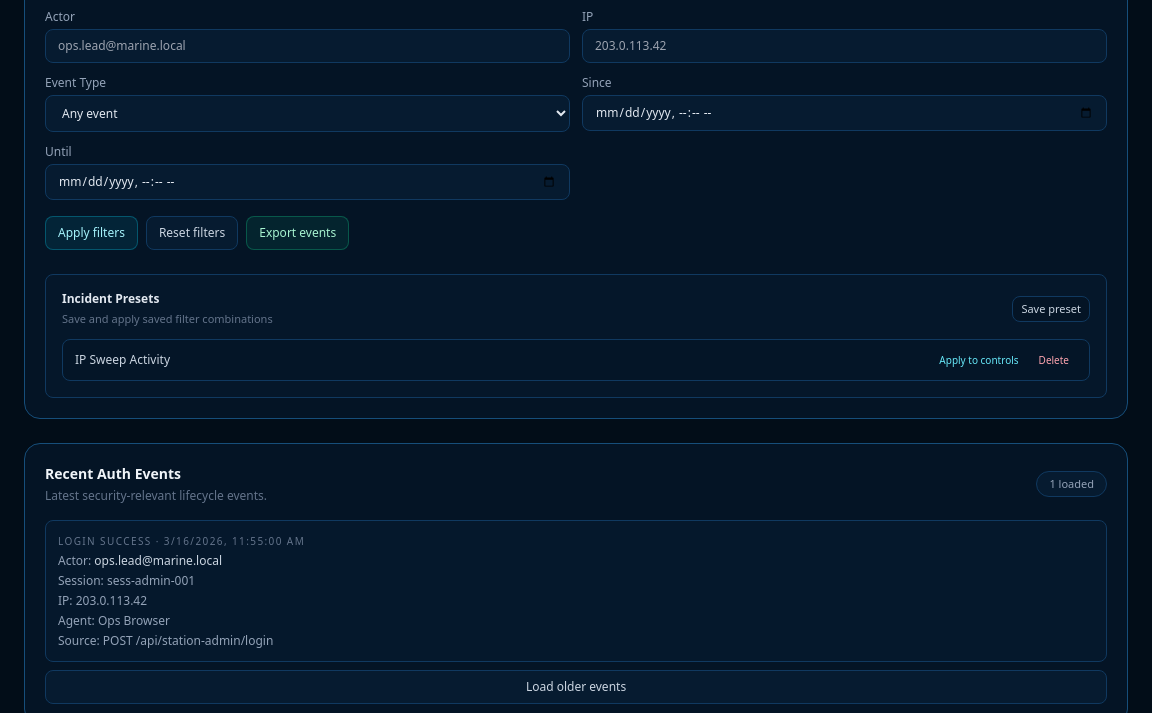
Scenario: security console applies incident preset to controls and URL without API requests
(page scrolled)
Expected: the text "IP Sweep Activity" is shown, left=75, top=352, right=170, bottom=368
Click the button "Apply to controls" at (979, 360), box left=931, top=348, right=1026, bottom=372
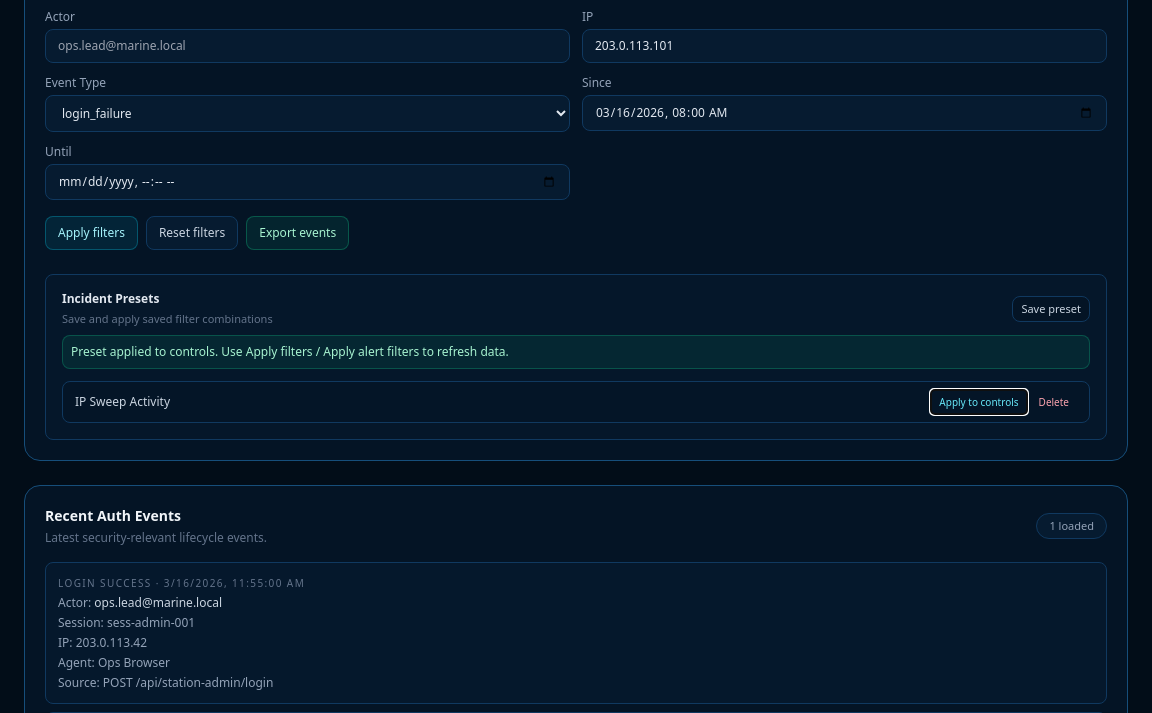
Expected: the field showing "203.0.113.101" is shown, left=582, top=28, right=1107, bottom=62
Expected: the field showing "2026-03-16T08:00" is shown, left=582, top=94, right=1107, bottom=130
